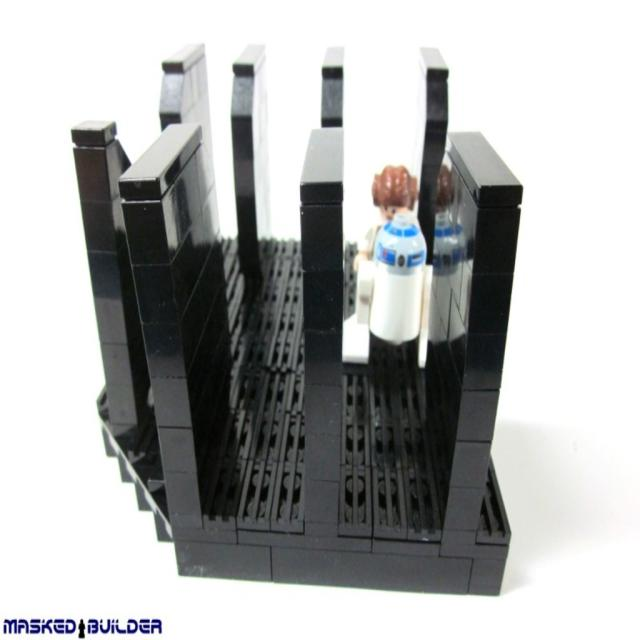Toy: (74, 26, 547, 584), (341, 166, 434, 366)
